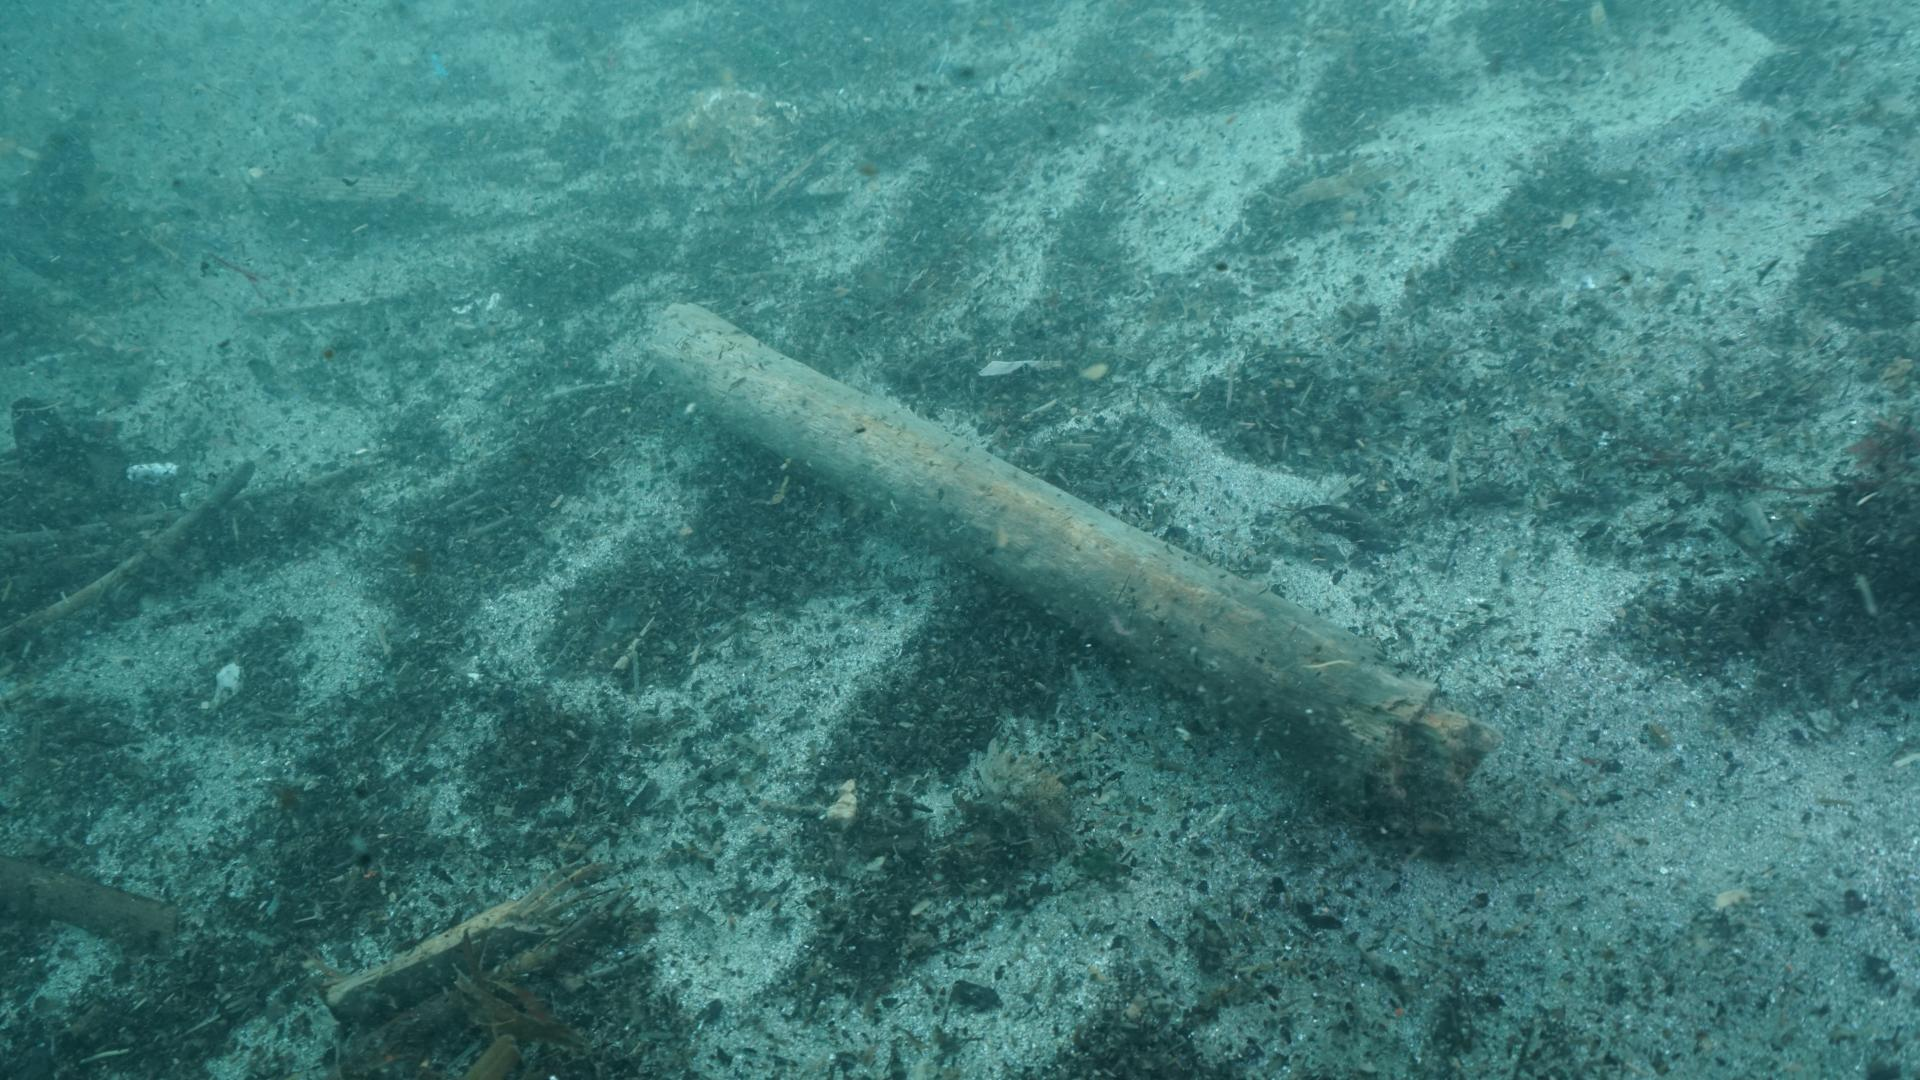wood: (644, 301, 1502, 833)
